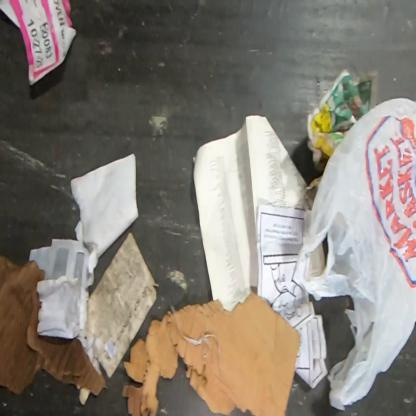cardboard: (121, 289, 301, 416), (0, 254, 109, 396)
soft_plastic: (296, 96, 416, 411)
